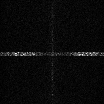wifi: (1, 51, 104, 55)
